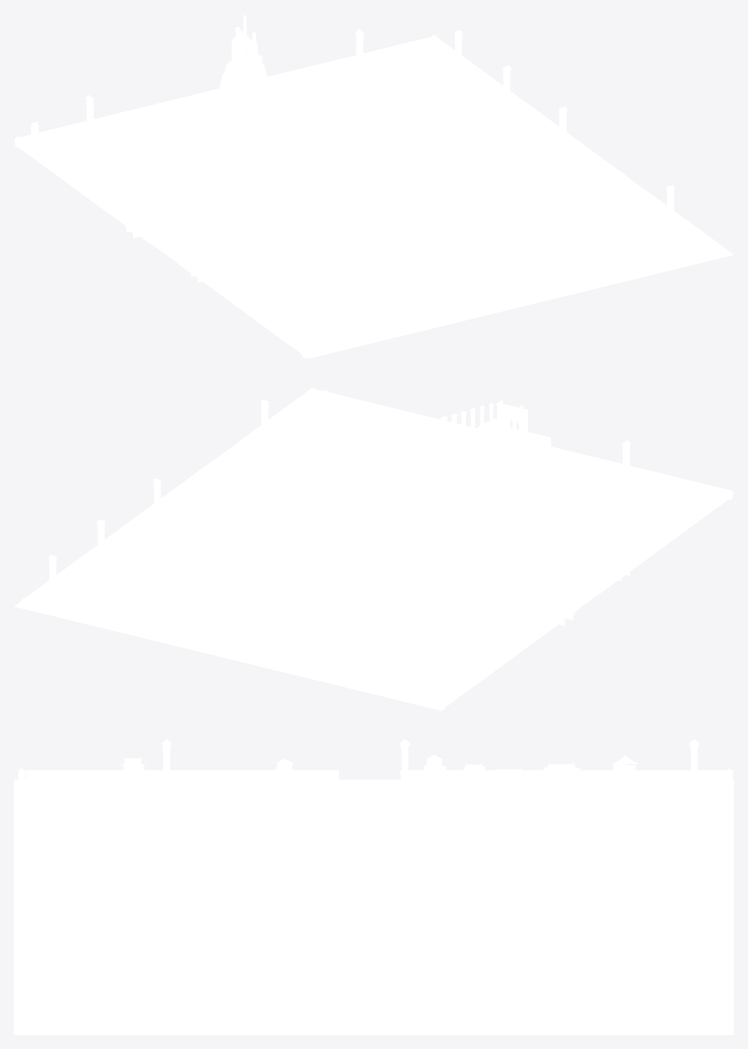
The model's file is stage.glb.
3 views of the same model, one above another, from view 1: azimuth 30°, elevation 25°; view 2: azimuth 150°, elevation 25°; view 3: azimuth 270°, elevation 25° (orthographic). The views are drawn at different scales.
Parts seen in each view (by area): view 1: KORE_export_5_Ground02_1_0_0, KORE_export_5_FarBuilding_1_0_0; view 2: KORE_export_5_Ground02_1_0_0, KORE_export_5_FarBuilding_1_0_0; view 3: KORE_export_5_Ground02_1_0_0, KORE_export_5_FarBuilding_1_0_0.
Part boxes in pixels (x1=…): KORE_export_5_Ground02_1_0_0: x1=14, y1=29, x2=733, y2=358; KORE_export_5_FarBuilding_1_0_0: x1=217, y1=14, x2=551, y2=312; KORE_export_5_Ground02_1_0_0: x1=14, y1=387, x2=733, y2=710; KORE_export_5_FarBuilding_1_0_0: x1=218, y1=400, x2=550, y2=643; KORE_export_5_Ground02_1_0_0: x1=14, y1=739, x2=733, y2=1034; KORE_export_5_FarBuilding_1_0_0: x1=18, y1=789, x2=707, y2=926.
Bounding box in the file's own units: 15.45 × 3.35 × 18.
2 materials, 2 textured.
